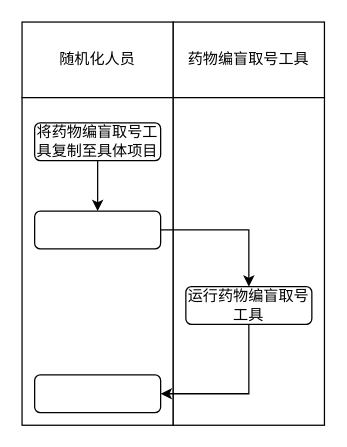
Some shapes in this 347 by 447 pixel diagram are drawn without their labels. The shapes that lost their labels are listed below. From the top down, each one's box as (x1, y1, x2, y2) in pixels, then its label:
(33, 210, 161, 249): 填写工具中的参数
(33, 374, 161, 413): 获取工具输出的报告文件
